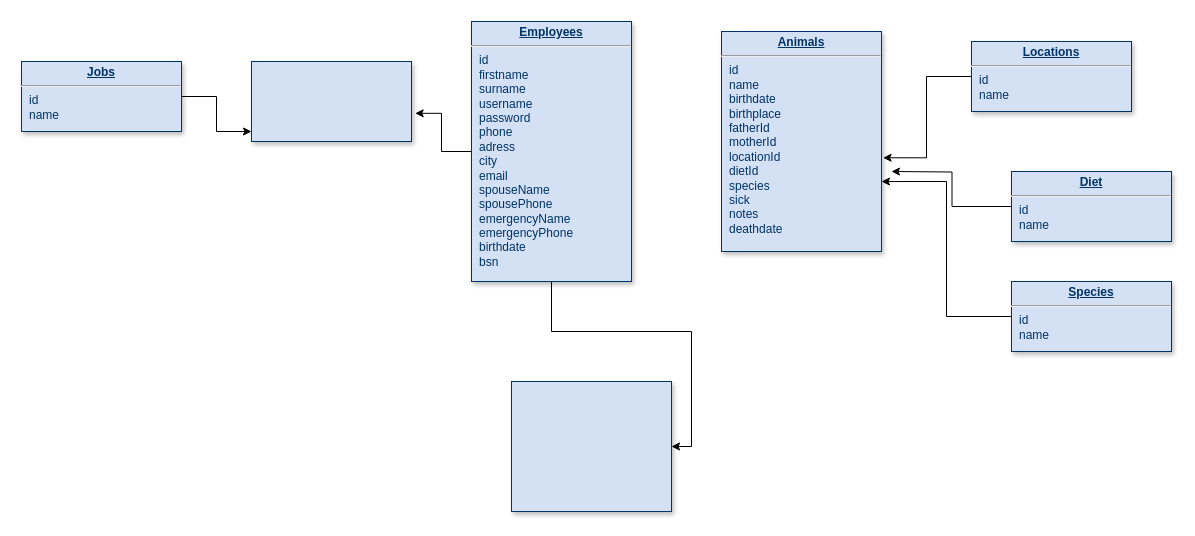
The diagram is 1195 pixels wide and 536 high, and some of its shapes have lost their labels. The shapes that lost their labels are listed below. From the top down, each one's centre as x and y in pixels, then its label:
At (x=332, y=102): "Job_Employee id employeeId jobId".
At (x=592, y=447): "Events employeeId locationId begin end".
